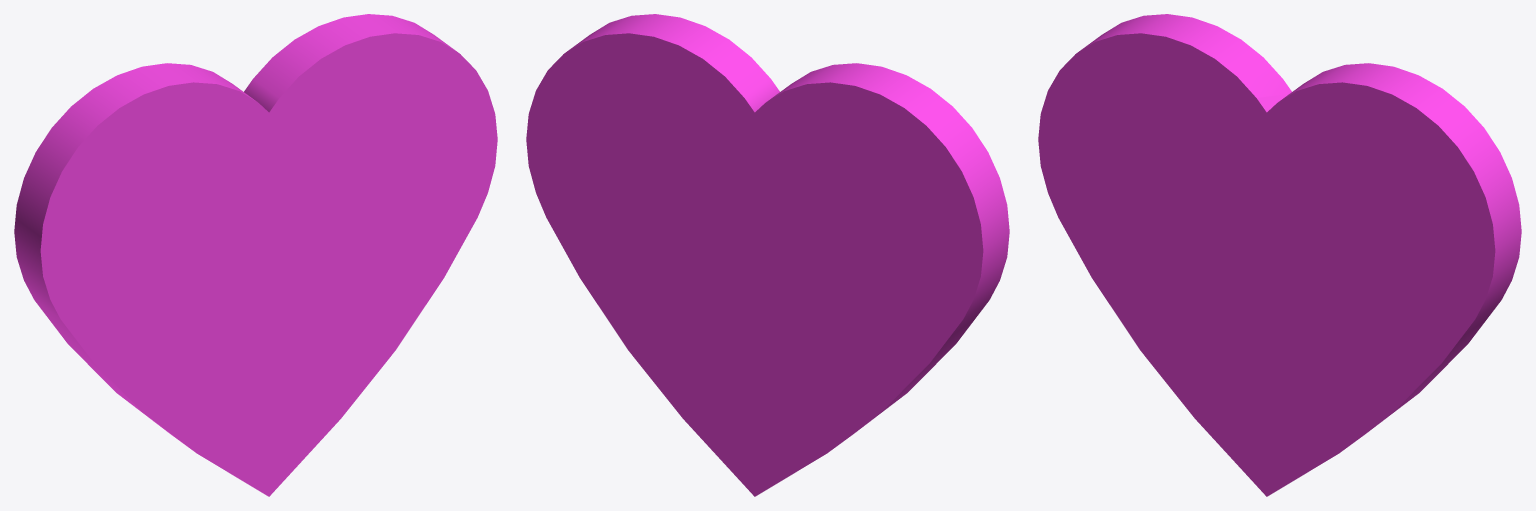
Rendered from 02 dil.FBX.
3 views of the same model, side by side, from view 1: azimuth 30°, elevation 25°; view 2: azimuth 150°, elevation 25°; view 3: azimuth 330°, elevation 25° (orthographic).
Parts seen in each view (by area): view 1: SM_Icon_Heart_01; view 2: SM_Icon_Heart_01; view 3: SM_Icon_Heart_01.
Part boxes in pixels (x1,y1,x2,y2): SM_Icon_Heart_01: (14, 14, 497, 496); SM_Icon_Heart_01: (526, 14, 1009, 496); SM_Icon_Heart_01: (1038, 14, 1521, 496).
Bounding box in the file's own units: 63.25 × 57.6 × 6.32.
